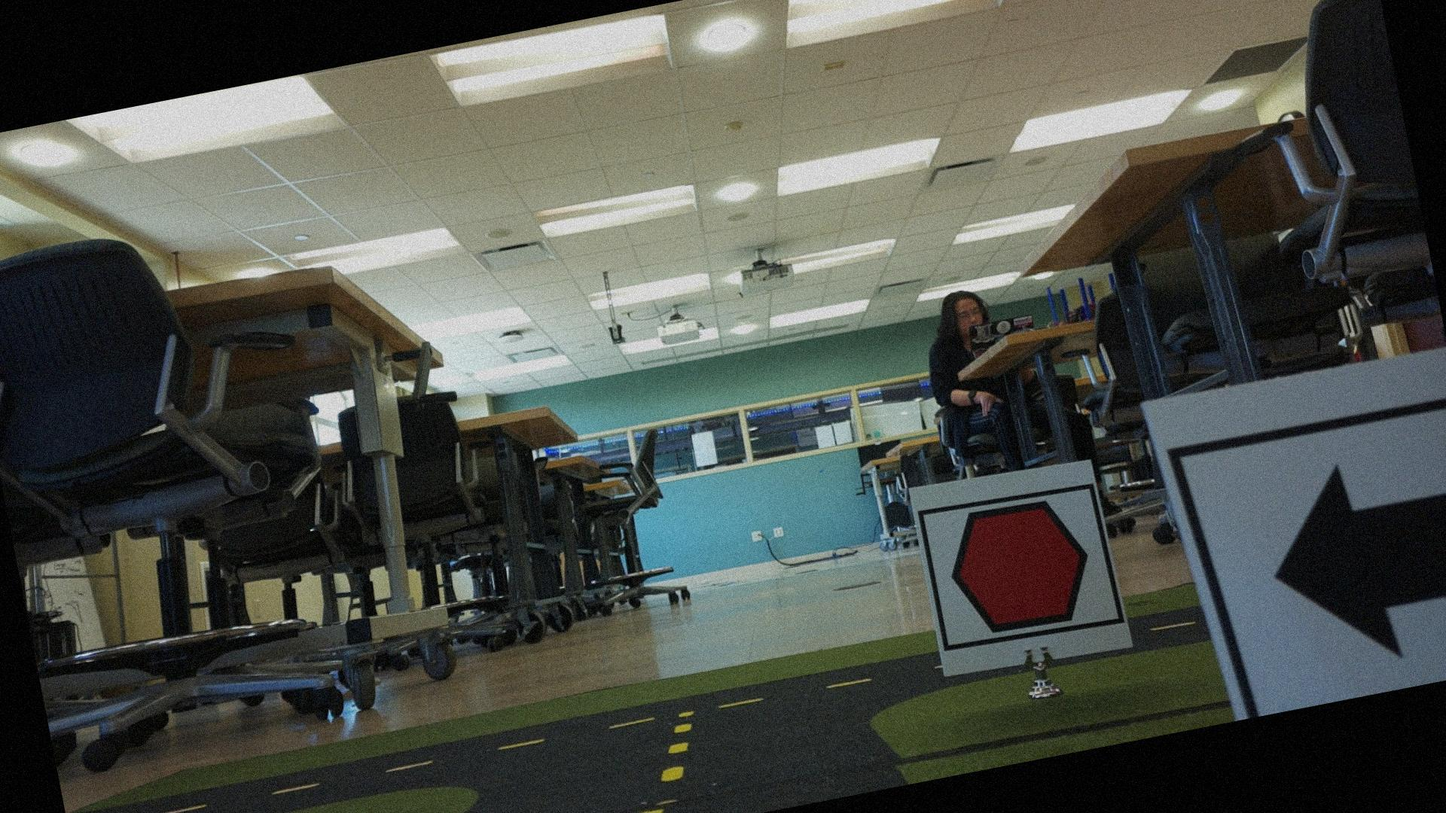stop: (920, 486, 1120, 655)
turnright: (1202, 405, 1445, 716)
yellowline: (652, 717, 701, 784)
